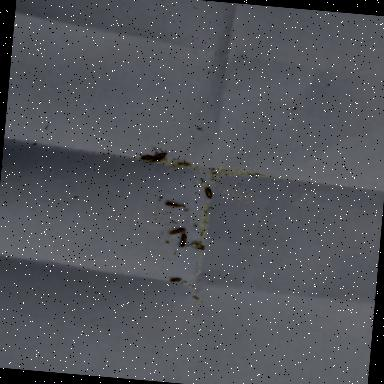pbw: (187, 244, 207, 252), (153, 152, 167, 162), (170, 228, 186, 236), (180, 234, 188, 248), (166, 202, 182, 208), (140, 155, 153, 162), (206, 188, 213, 200), (170, 278, 182, 283)
